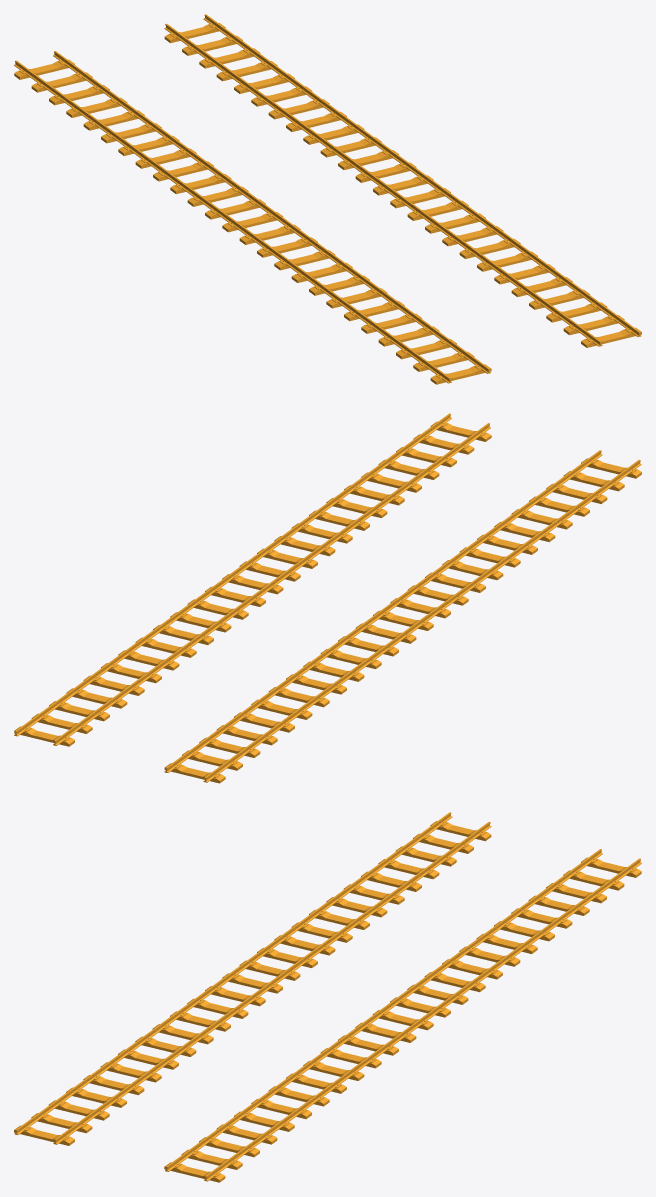
File: SM_Train_Rail_Straight_Double.fbx
3 views of the same model, one above another, from view 1: azimuth 30°, elevation 25°; view 2: azimuth 150°, elevation 25°; view 3: azimuth 330°, elevation 25° (orthographic).
Visible parts, largest first — view 1: SM_Train_Rail_Straight_Double; view 2: SM_Train_Rail_Straight_Double; view 3: SM_Train_Rail_Straight_Double.
Part boxes in pixels (x1,y1,x2,y2): SM_Train_Rail_Straight_Double: [14, 14, 641, 384]; SM_Train_Rail_Straight_Double: [14, 413, 641, 783]; SM_Train_Rail_Straight_Double: [14, 812, 641, 1182].
Size of the model in its own units: 8.2 by 0.3232 by 30.
